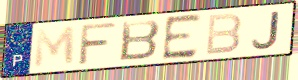B: (118, 18, 162, 63), (204, 12, 244, 57)
E: (161, 12, 204, 62)
F: (76, 21, 118, 67)
J: (251, 10, 281, 50)
M: (32, 24, 76, 70)
